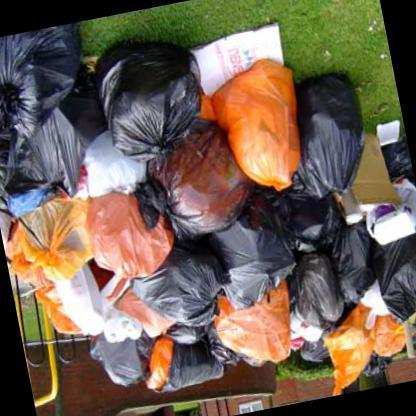Garbage: (45, 26, 378, 367), (98, 36, 221, 171), (210, 49, 318, 191), (0, 22, 101, 141), (0, 185, 104, 299), (290, 62, 374, 203), (151, 123, 234, 235), (216, 200, 296, 314), (206, 284, 298, 376), (128, 246, 222, 334), (278, 252, 354, 344), (274, 176, 356, 260), (90, 192, 166, 282), (316, 304, 392, 394), (366, 244, 415, 353), (90, 323, 156, 391), (332, 227, 385, 305), (370, 309, 414, 356)
